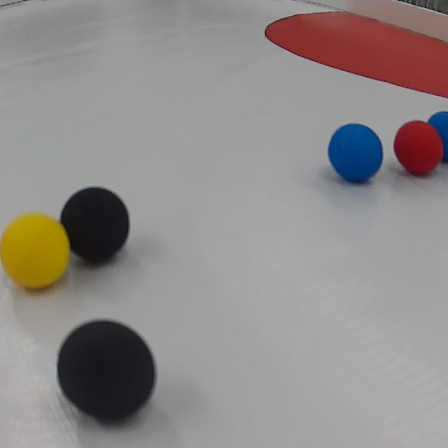black: (55, 320, 157, 422), (57, 188, 133, 265)
blue: (321, 120, 385, 189), (428, 107, 448, 164)
red: (394, 115, 440, 178)
red_base: (262, 3, 448, 100)
